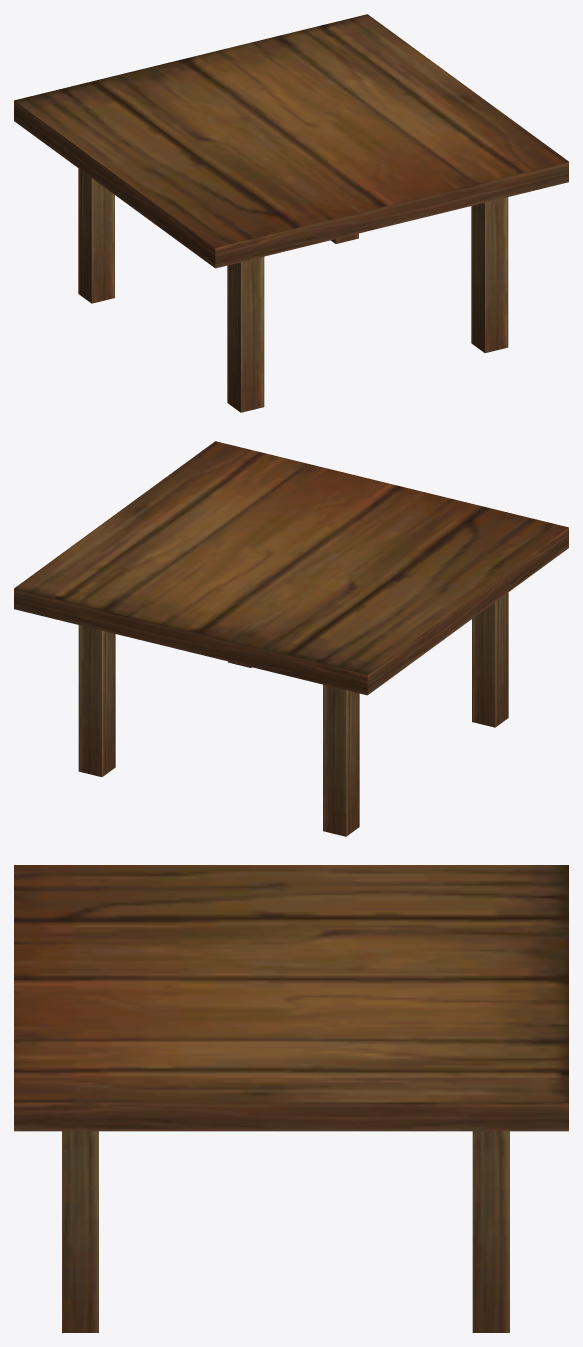
Rendered from shamo_wujian_zhuozi.fbx.
The picture shows the model from 3 angles, top to bottom: view 1: azimuth 30°, elevation 25°; view 2: azimuth 150°, elevation 25°; view 3: azimuth 270°, elevation 25°; orthographic projection. The views are drawn at different scales.
Visible parts, largest first — view 1: polySurface291, polySurface292, polySurface294, polySurface293; view 2: polySurface291, polySurface295, polySurface293, polySurface292; view 3: polySurface291, polySurface295, polySurface294.
Boxes of the visible parts, <box> form: polySurface291: <box>14,14,568,268</box>; polySurface292: <box>227,256,264,412</box>; polySurface294: <box>471,197,508,352</box>; polySurface293: <box>78,168,114,303</box>; polySurface291: <box>14,441,568,695</box>; polySurface295: <box>78,625,115,776</box>; polySurface293: <box>323,684,359,836</box>; polySurface292: <box>472,592,508,727</box>; polySurface291: <box>14,865,568,1131</box>; polySurface295: <box>472,1131,509,1332</box>; polySurface294: <box>62,1131,98,1332</box>.
Bounding box in the file's own units: 2.73 × 1.39 × 2.69.
